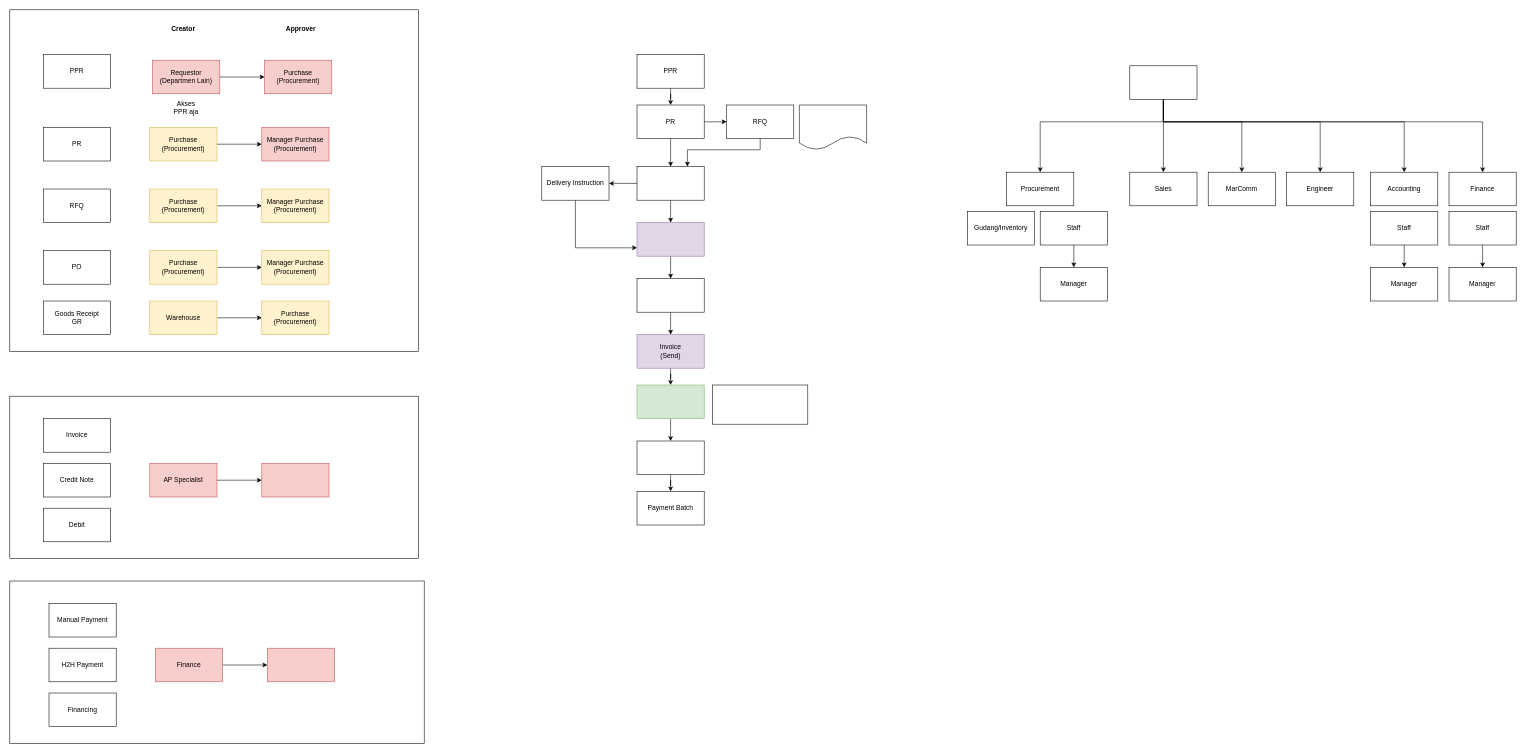
Image size: 1526x753. Some labels were removed from this diagram. The box of each missing label's shape, as (x1, y1, x2, y2) in pixels:
3 Ways Matching by AP 1. Invoice 2. Goods Receipt 3. PO: (712, 384, 808, 424)
Account Manager: (261, 463, 329, 497)
Cari vendor: (799, 104, 867, 150)
CEO: (1129, 65, 1197, 99)
Delivery Order: (636, 222, 704, 256)
Finance Manager: (267, 648, 335, 682)
Goods Receipt: (636, 278, 704, 312)
Invoice (Receive): (636, 384, 704, 419)
Payment: (636, 440, 704, 475)
PO (Legally Binding): (636, 166, 704, 200)
